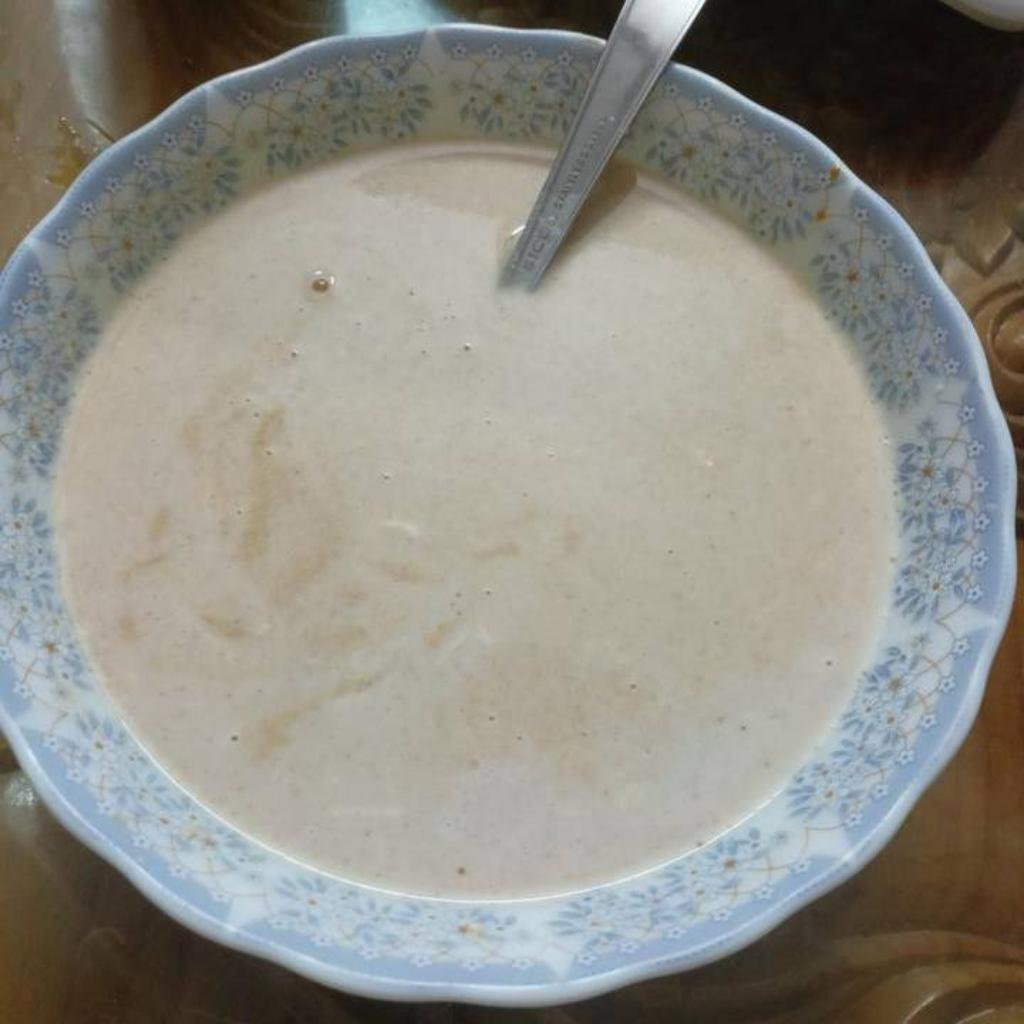payesh: (51, 133, 907, 906)
